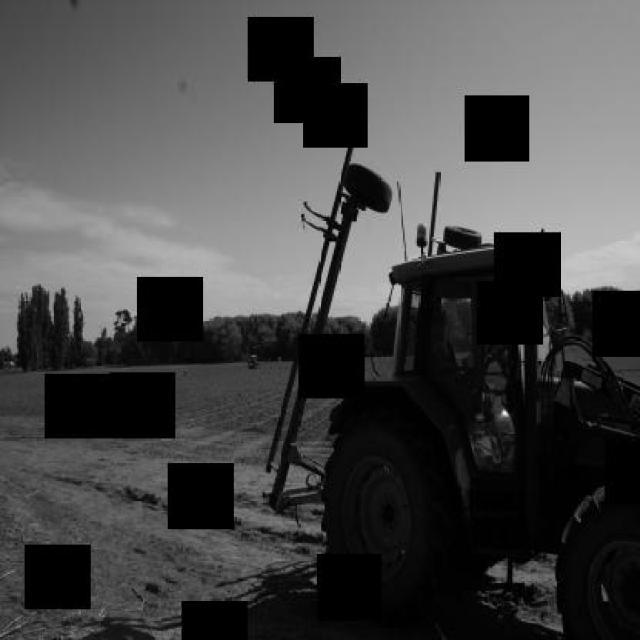Tratores - v5 YOLO V8L 2024-11-13: (232, 86, 638, 639)
